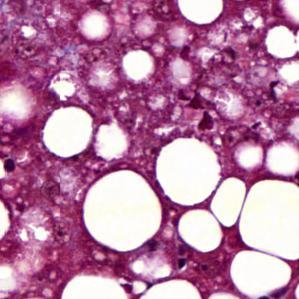steatosis: (82, 167, 164, 254), (157, 135, 220, 207), (178, 0, 224, 25)
